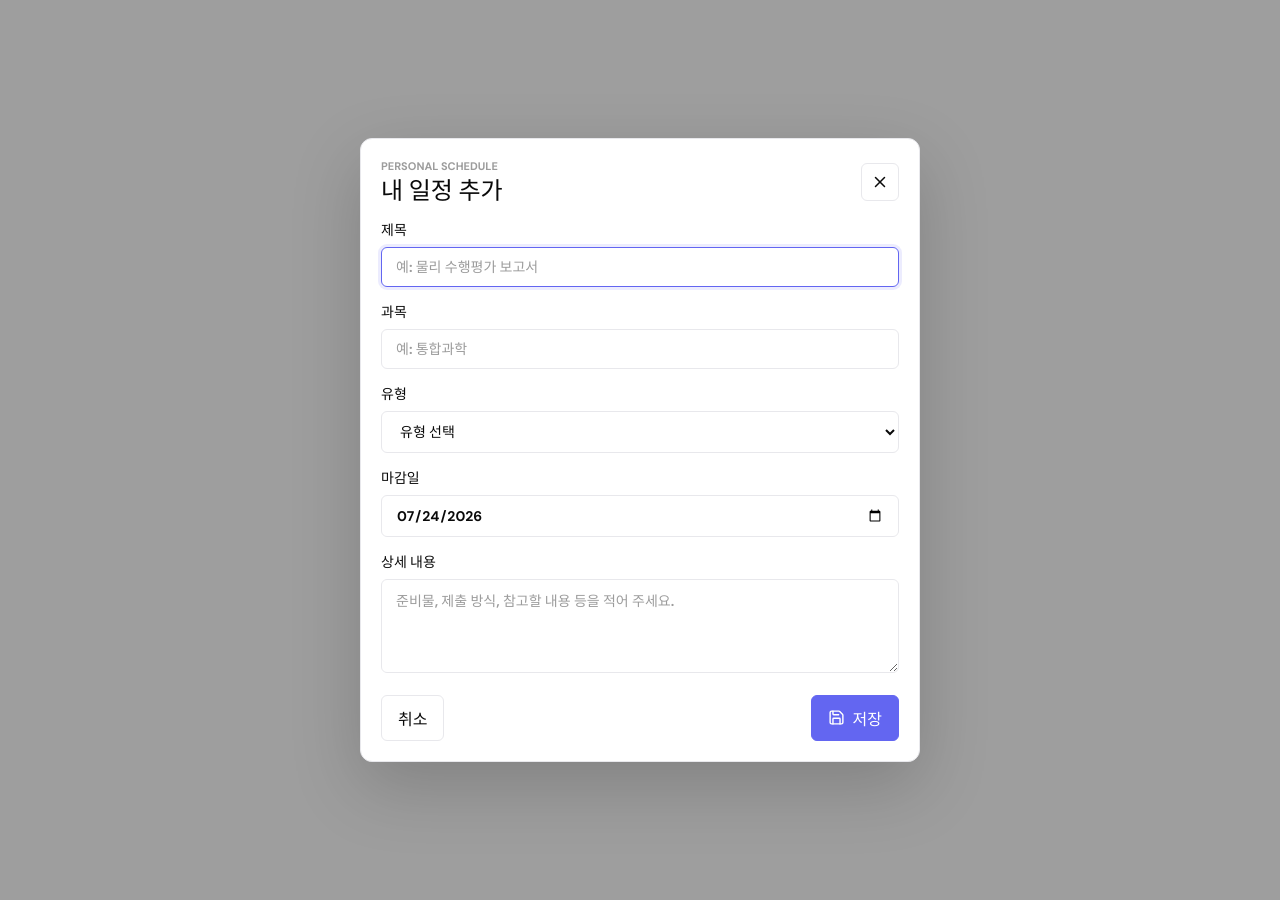
it: ScheduleModal validation › 빈 제목은 제출하지 않고 한국어 오류를 표시한다
Select "일반과제" in the dropdown labelled "유형" at coordinates (640, 432), box [381,411,899,453]
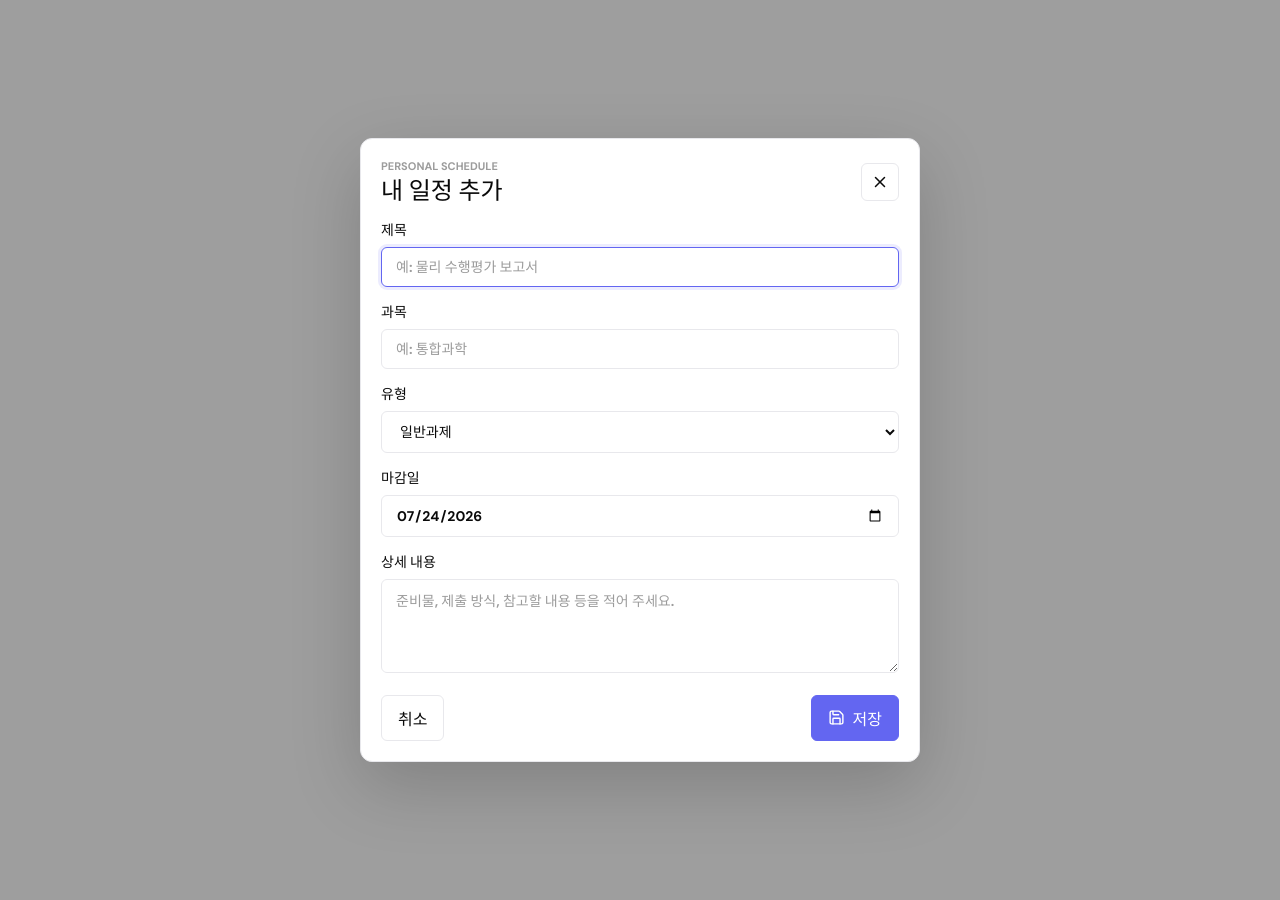
Click the button "저장" at coordinates (855, 718), box [810,695,899,741]
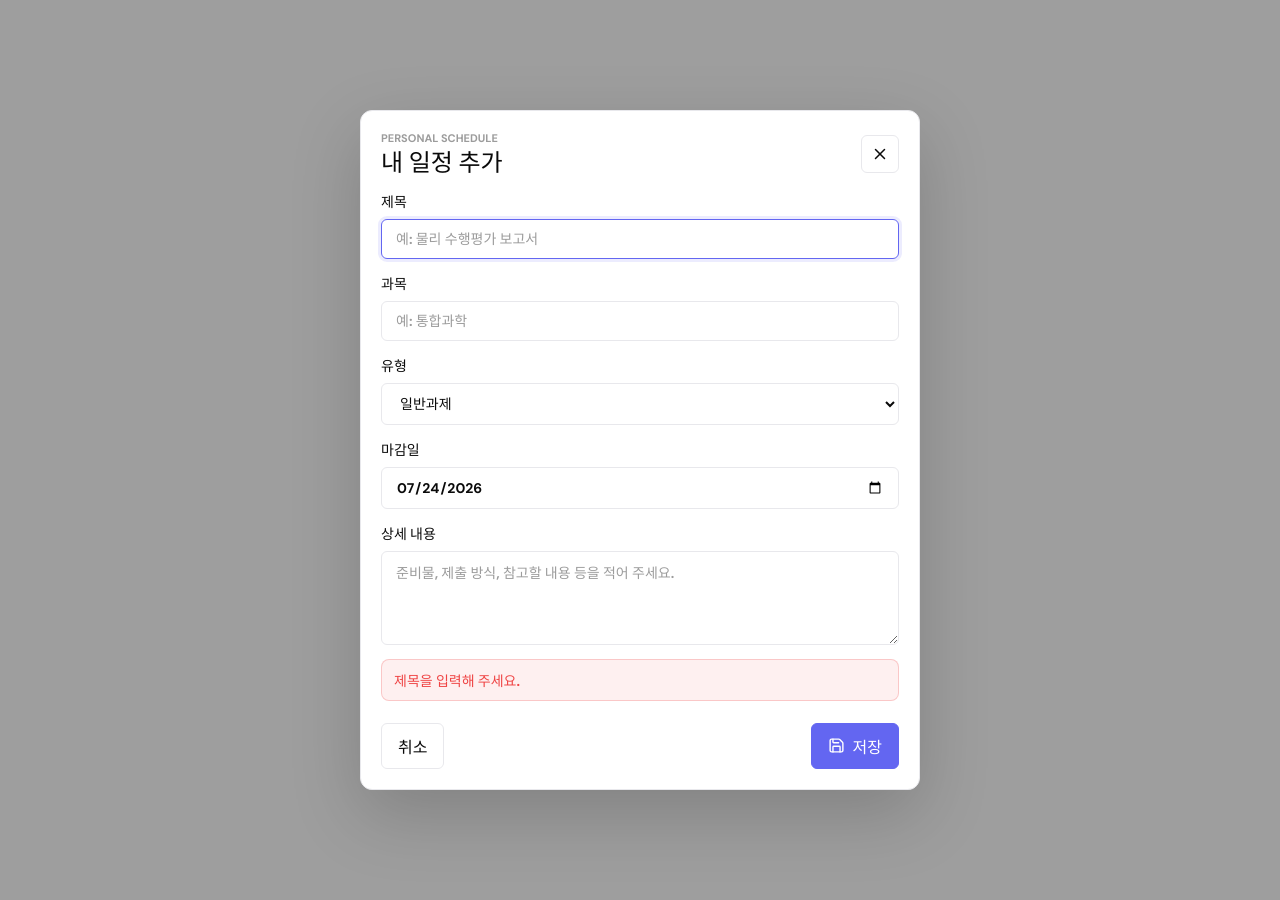
Check: the message reads "제목을 입력해 주세요.", box [394,672,520,690]
